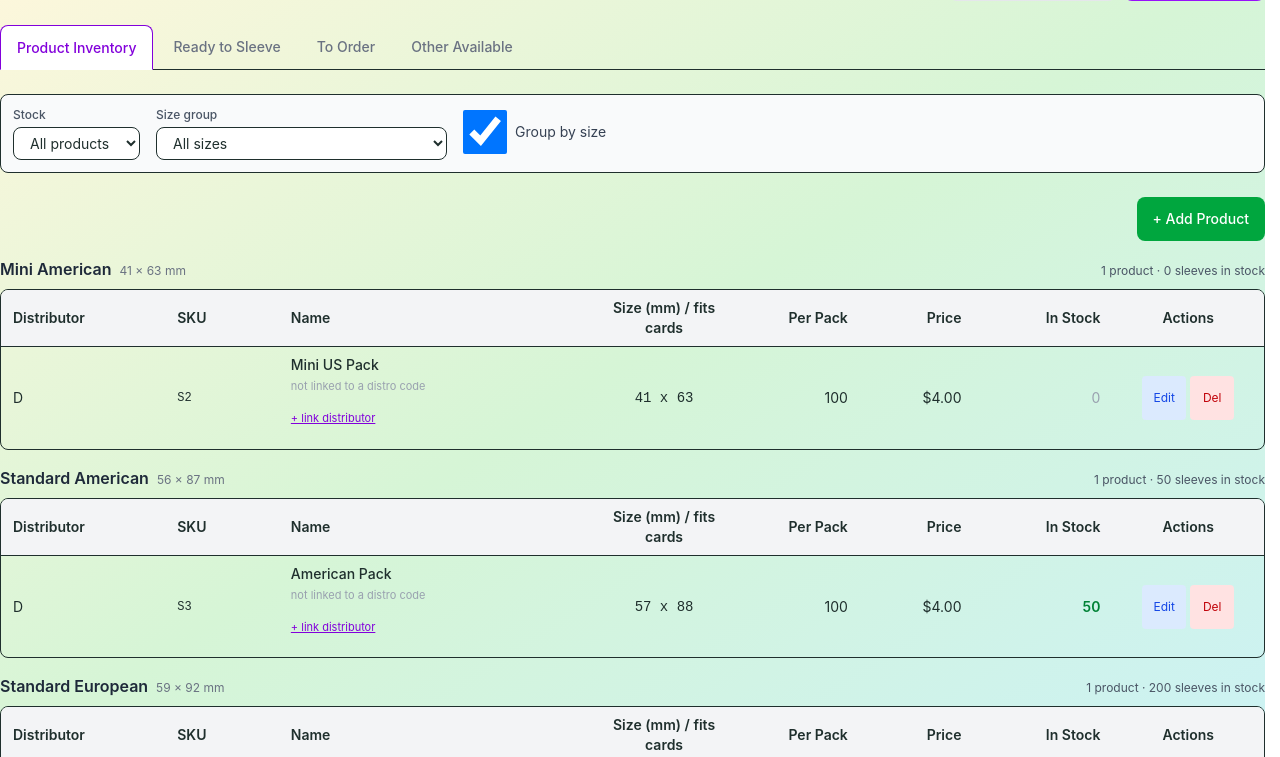
Test: SleeveInventoryTab › stock filter and size groups › "In stock" hides out-of-stock products and updates the summary
The image size is (1280, 757).
Select "In stock" in the dropdown labelled "Stock" at (76, 144), box left=13, top=127, right=140, bottom=160
(page scrolled)
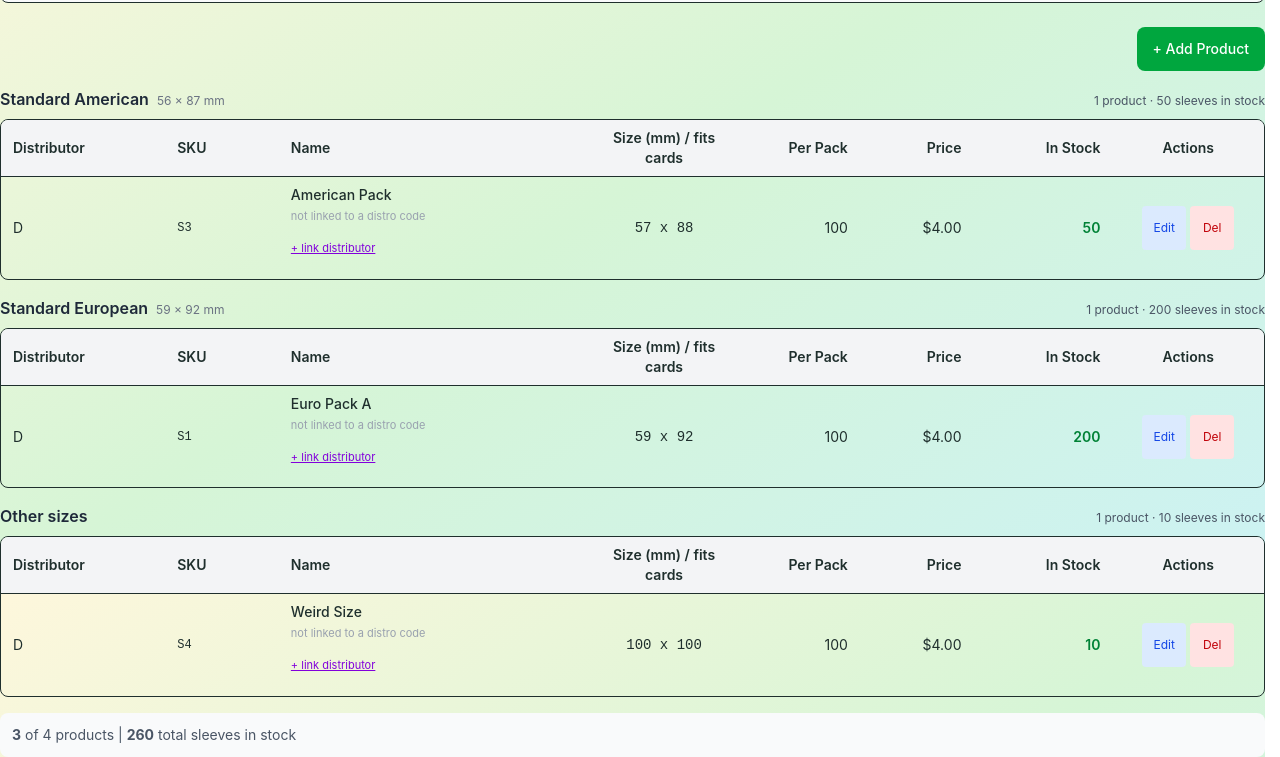
expect the text "Euro Pack A" is shown: met, box left=291, top=395, right=371, bottom=412
expect the text "Mini US Pack" is gone: met
expect the text "3 of 4 products | 260 total sleeves in stock" is shown: met, box left=0, top=713, right=1265, bottom=756
